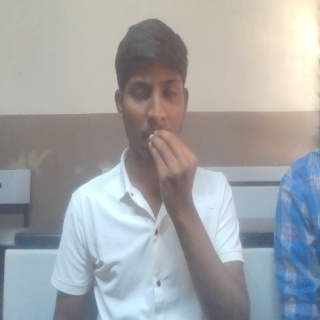Food: (148, 127, 200, 225)
